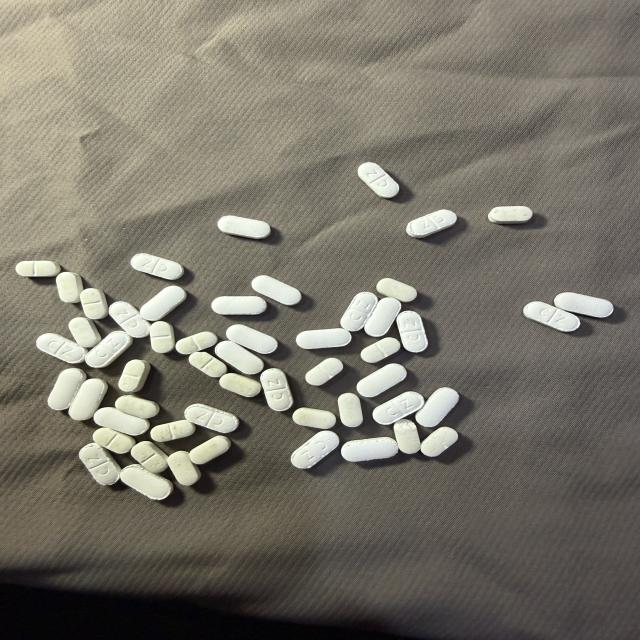pill: (291, 431, 339, 469), (121, 465, 173, 500), (79, 443, 120, 485), (416, 388, 459, 428), (523, 302, 580, 332), (373, 391, 424, 424), (86, 331, 132, 367), (215, 341, 264, 374), (357, 364, 406, 397), (140, 286, 186, 321), (48, 368, 86, 410), (185, 404, 239, 433), (69, 379, 107, 420), (94, 407, 149, 435), (36, 334, 87, 363), (554, 292, 613, 317), (252, 275, 301, 305), (340, 292, 377, 331), (109, 301, 149, 337), (358, 163, 399, 198), (226, 325, 277, 353), (365, 298, 401, 336), (341, 437, 398, 461), (131, 254, 183, 280), (261, 369, 293, 411), (407, 210, 456, 237), (397, 311, 427, 352), (218, 216, 270, 239), (130, 441, 167, 473), (189, 436, 231, 464), (296, 328, 351, 349), (168, 451, 200, 485), (421, 427, 457, 457), (115, 395, 159, 419), (93, 428, 135, 453), (306, 358, 343, 386), (212, 296, 266, 315), (361, 337, 400, 363), (119, 360, 150, 392), (69, 317, 101, 348), (150, 420, 195, 442), (220, 373, 261, 397), (377, 278, 417, 302), (189, 352, 227, 377), (293, 408, 336, 429), (176, 332, 217, 354), (394, 419, 420, 453), (80, 288, 108, 319), (338, 393, 363, 427), (56, 272, 83, 303), (150, 321, 175, 353), (488, 206, 532, 223), (16, 261, 60, 276)
